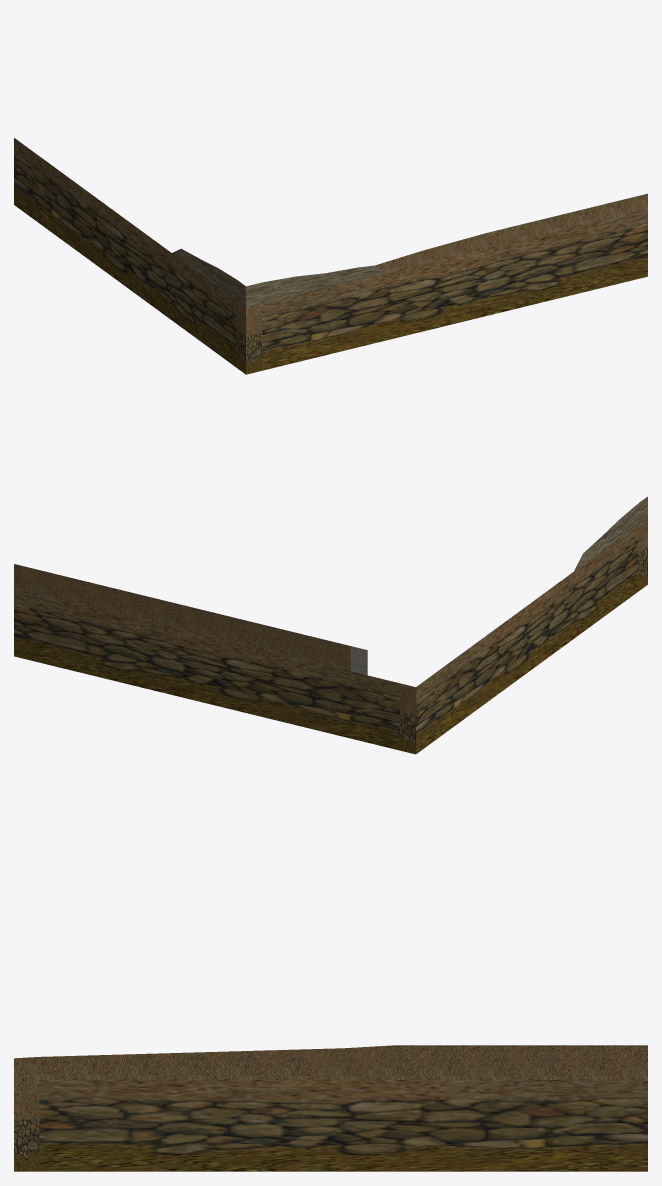
3 views of the same model, one above another, from view 1: azimuth 30°, elevation 25°; view 2: azimuth 150°, elevation 25°; view 3: azimuth 270°, elevation 25° (orthographic). The views are drawn at different scales.
Visible parts, largest first — view 1: Joint_0_Object_5, Joint_0_Object_4, Joint_0_Object_0, Joint_0_Object_3, Joint_0_Object_2; view 2: Joint_0_Object_5, Joint_0_Object_4, Joint_0_Object_0, Joint_0_Object_2; view 3: Joint_0_Object_4, Joint_0_Object_0.
Part boxes in pixels (left/top/right/bottom): Joint_0_Object_5: left=262, top=209, right=647, bottom=370; Joint_0_Object_4: left=14, top=138, right=236, bottom=367; Joint_0_Object_0: left=236, top=193, right=647, bottom=374; Joint_0_Object_3: left=246, top=265, right=390, bottom=307; Joint_0_Object_2: left=172, top=248, right=245, bottom=306; Joint_0_Object_5: left=14, top=589, right=399, bottom=750; Joint_0_Object_4: left=416, top=524, right=638, bottom=753; Joint_0_Object_0: left=14, top=517, right=647, bottom=754; Joint_0_Object_2: left=574, top=496, right=647, bottom=570; Joint_0_Object_4: left=39, top=1080, right=647, bottom=1171; Joint_0_Object_0: left=14, top=1045, right=647, bottom=1171.
Bounding box in the file's own units: 10000 × 2200 × 10000.
Materials: 6 (6 with a texture image).
